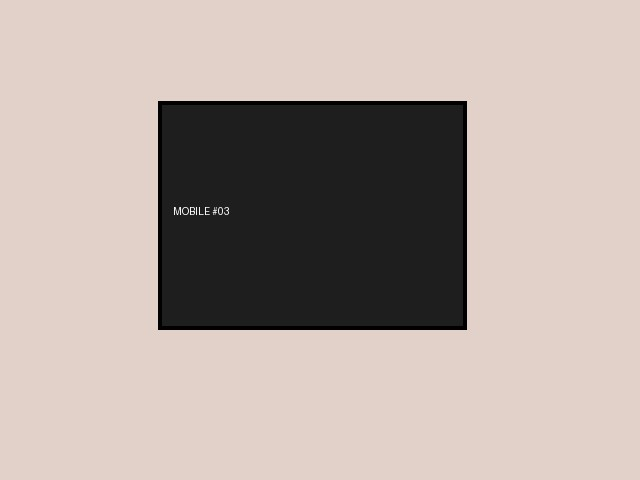mobile_phone: (158, 101, 466, 329)
